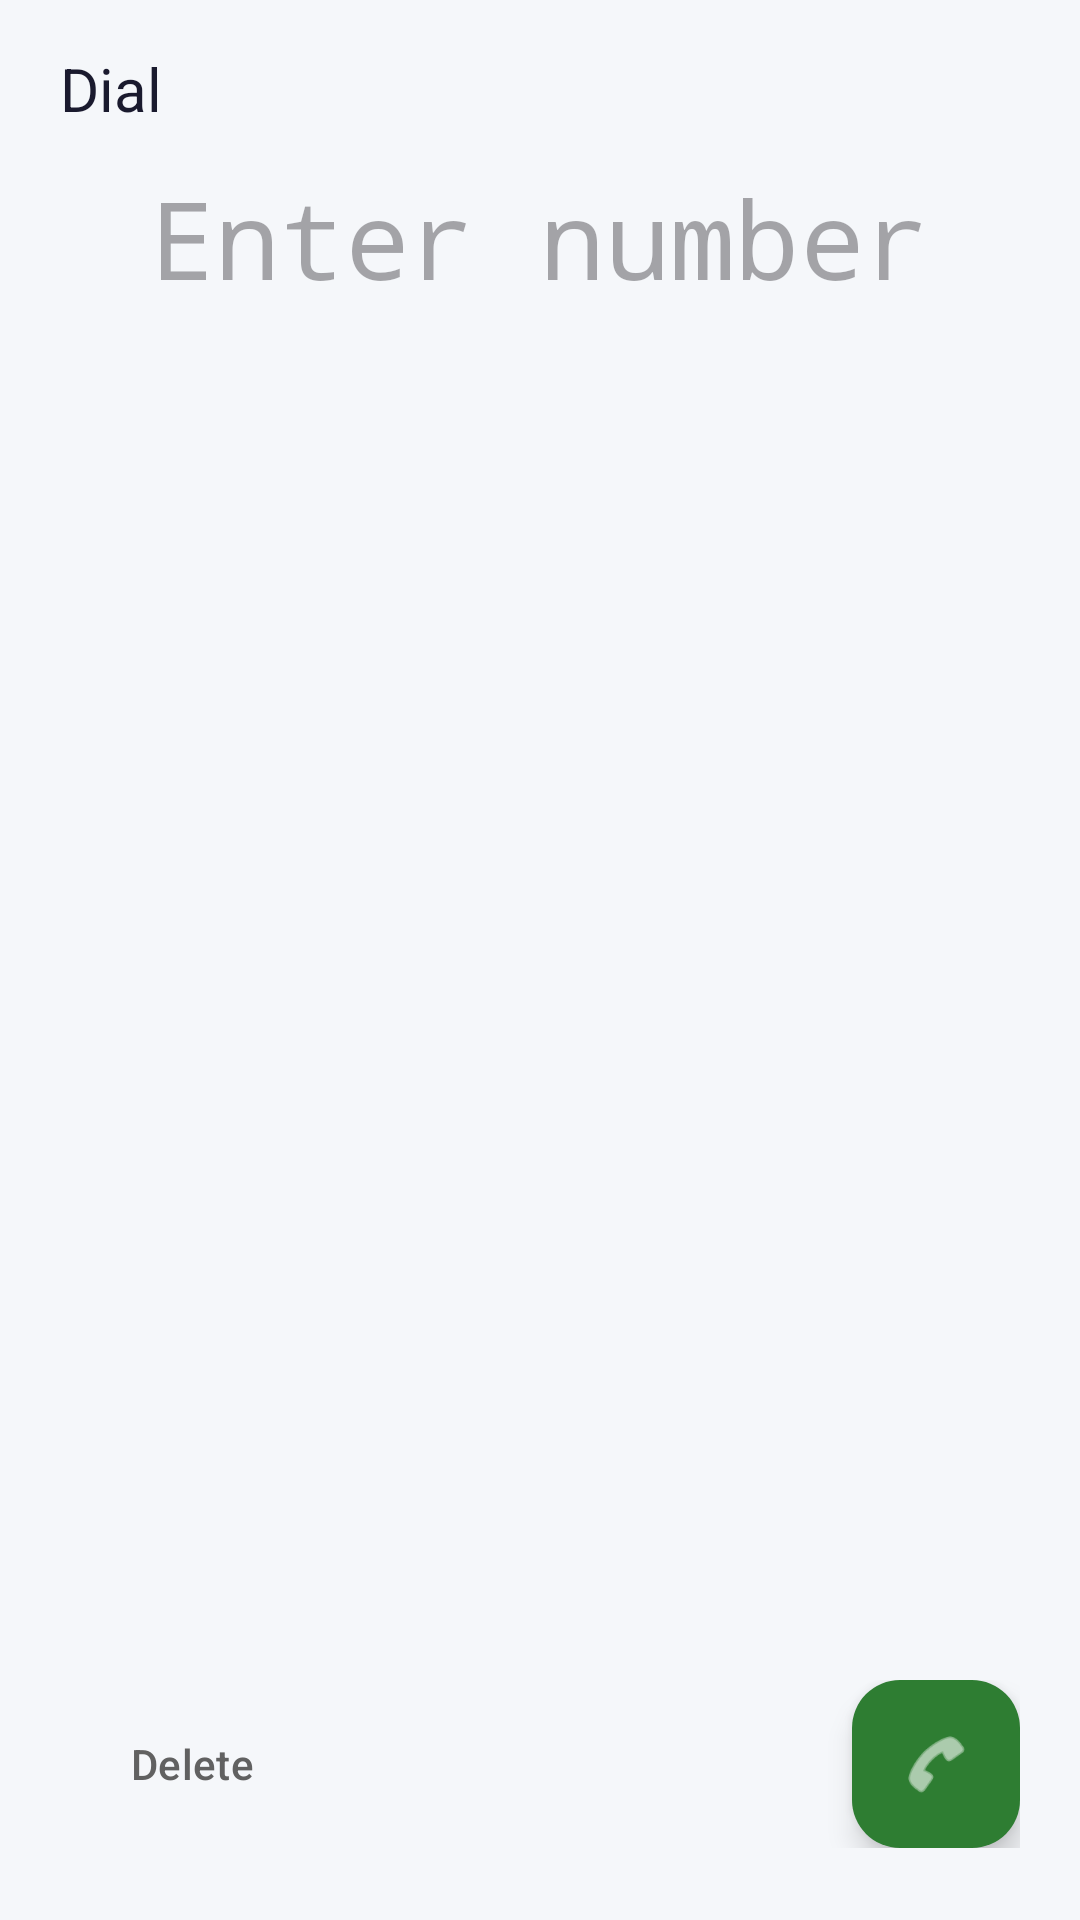

Icon bounding boxes for this 1080*1920 phone screenshot, format (left=x1, top=y1, right=x2, bottom=y2):
Call: (left=852, top=1680, right=1020, bottom=1848)
